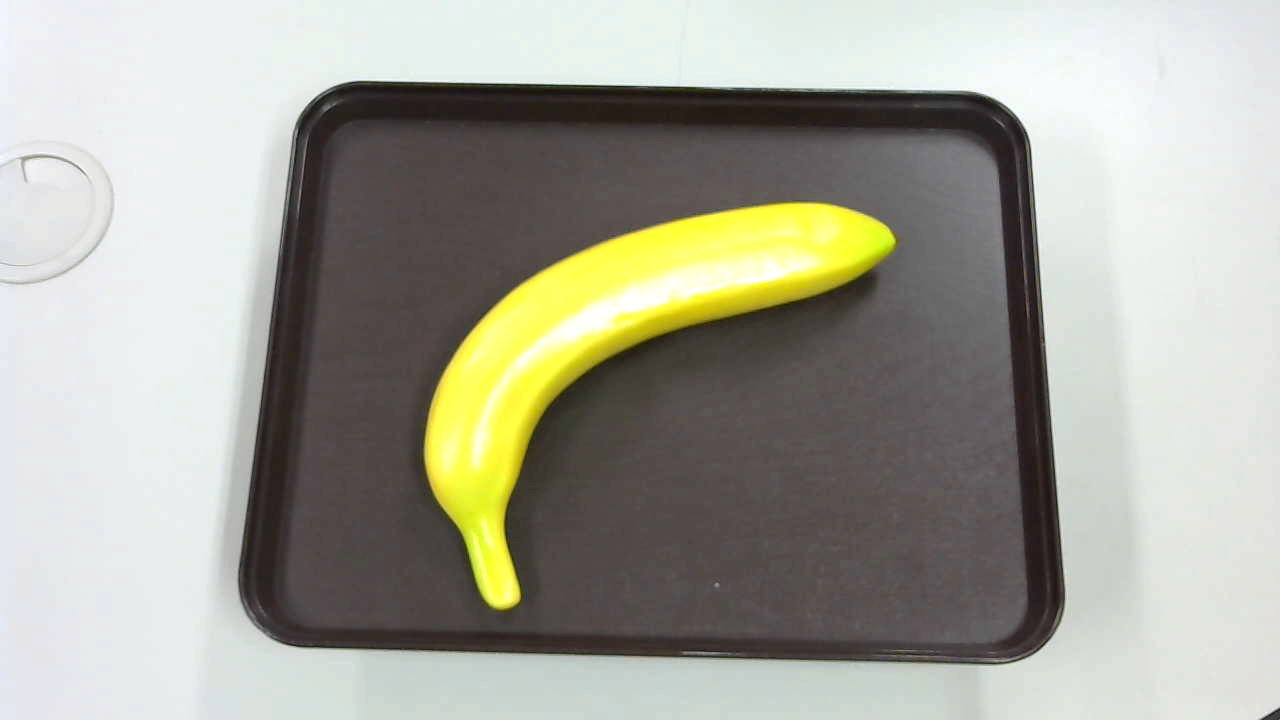banana: (412, 173, 917, 629)
